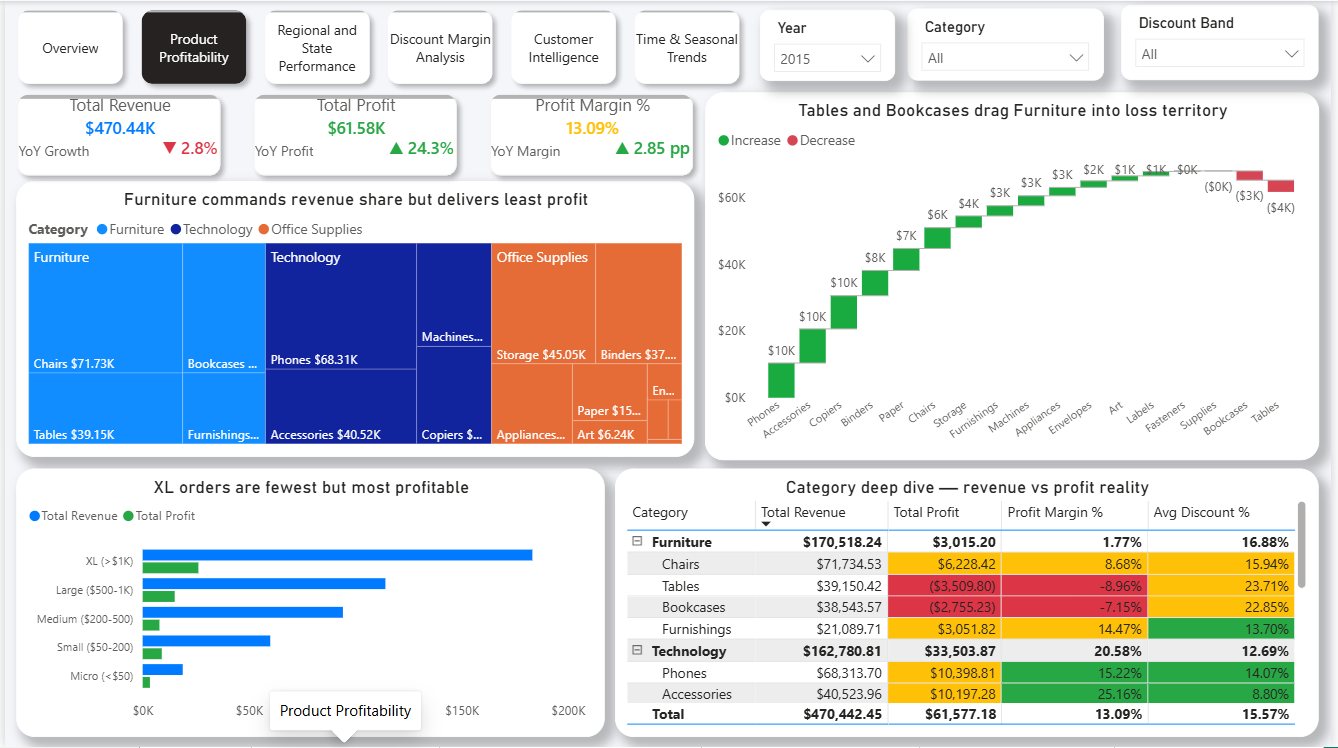

What the dashboard file says about the page in this screenshot:
{"tool":"powerbi","page":{"name":"Product Profitability","canvas":[1280,720],"ordinal":1},"visuals":[{"type":"treemap","title":"Furniture commands revenue share but delivers least profit","fields":{"Details":["superstore_clean.Sub_Category"],"Group":["superstore_clean.Category"],"Values":["Measures (2).Total Revenue"]},"box":[11,174.3,654.5,266.2],"z":0},{"type":"waterfallChart","title":"Tables and Bookcases drag Furniture into loss territory","fields":{"Category":["superstore_clean.Sub_Category"],"Y":["Measures (2).Total Profit"]},"box":[675.1,87.8,592.8,355.4],"z":1000},{"type":"slicer","fields":{"Values":["superstore_clean.Category"]},"box":[871.4,6.9,189.4,70],"z":2000},{"type":"slicer","fields":{"Values":["superstore_clean.Discount_Band"]},"box":[1077.2,4.1,190.7,72.7],"z":3000},{"type":"slicer","title":"YE","fields":{"Values":["superstore_clean.Order_Year"]},"box":[728.6,8.2,130.4,68.6],"z":4000},{"type":"pageNavigator","box":[4.1,0,716.3,89.2],"z":6000},{"type":"cardVisual","fields":{"Data":["Measures (2).Total Revenue","Measures (2).Total Profit","Measures (2).Profit Margin %"]},"box":[0,78.4,676.8,102.5],"z":9000},{"type":"clusteredBarChart","title":"XL orders are fewest but most profitable","fields":{"Category":["superstore_clean.Sales_Bucket"],"Y":["Measures (2).Total Revenue","Measures (2).Total Profit"]},"box":[11,451.5,568.1,259.3],"z":10000},{"type":"pivotTable","title":"Category deep dive — revenue vs profit reality","fields":{"Rows":["superstore_clean.Category","superstore_clean.Sub_Category"],"Values":["Measures (2).Total Revenue","Measures (2).Total Profit","Measures (2).Profit Margin %","Measures (2).Avg Discount %"]},"box":[588.7,451.5,679.2,259.3],"z":11000}]}

Visuals, with their boxes in screenshot pixels (x1, y1, x2, y2), scaled from the page's 1280x720 canvas onto the 1338x748 screenshot:
"Furniture commands revenue share but delivers least profit" treemap: [11, 181, 696, 458]
"Tables and Bookcases drag Furniture into loss territory" waterfallChart: [706, 91, 1325, 460]
slicer - superstore_clean.Category: [911, 7, 1109, 80]
slicer - superstore_clean.Discount_Band: [1126, 4, 1325, 80]
"YE" slicer: [762, 9, 898, 80]
pageNavigator: [4, 0, 753, 93]
cardVisual - Measures (2).Total Revenue x Measures (2).Total Profit: [0, 81, 707, 188]
"XL orders are fewest but most profitable" clusteredBarChart: [11, 469, 605, 738]
"Category deep dive — revenue vs profit reality" pivotTable: [615, 469, 1325, 738]
